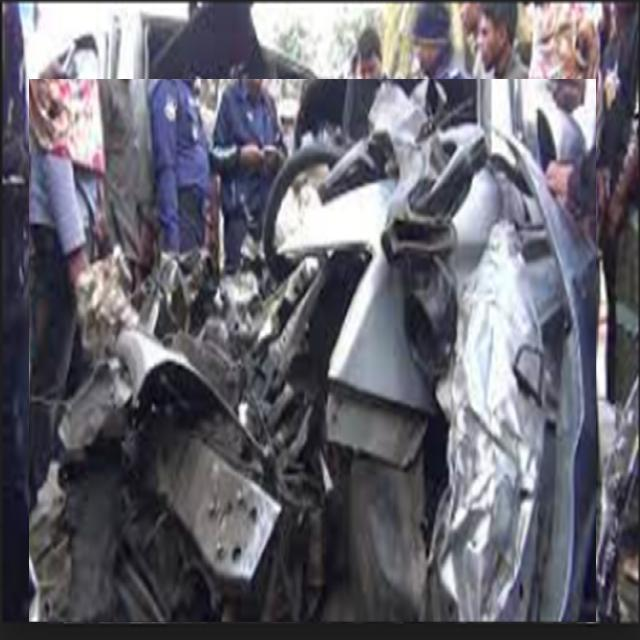accident: (29, 80, 596, 622)
